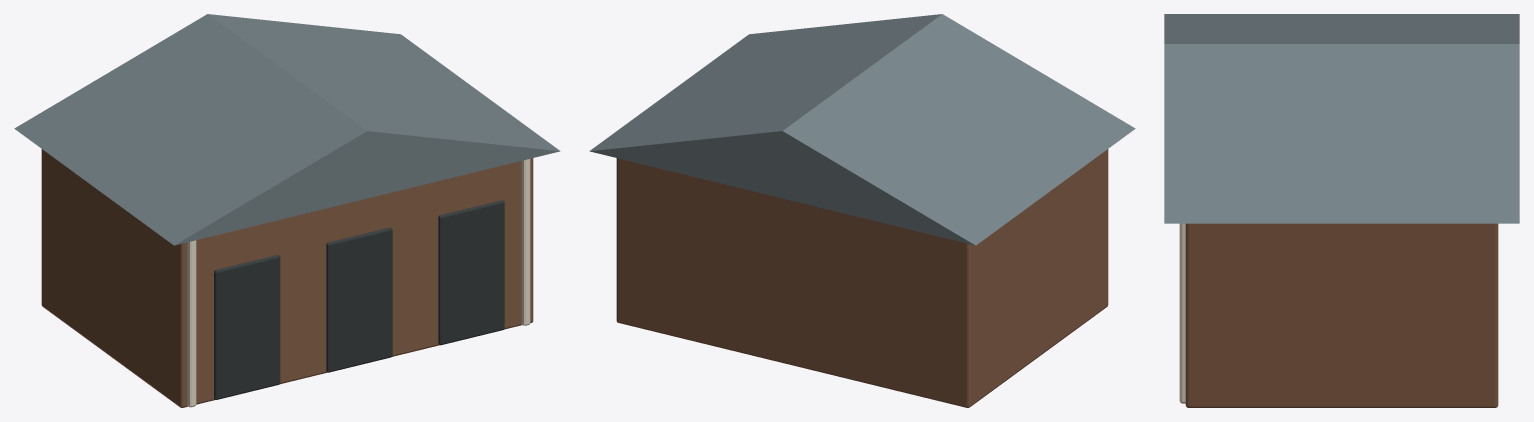
Rendered from warehouse.glb.
The picture shows the model from 3 angles, left to right: view 1: azimuth 30°, elevation 25°; view 2: azimuth 150°, elevation 25°; view 3: azimuth 270°, elevation 25°; orthographic projection. The views are drawn at different scales.
Visible parts, largest first — view 1: warehouse_tile, warehouse_timber, warehouse_black, warehouse_ivory; view 2: warehouse_timber, warehouse_tile; view 3: warehouse_tile, warehouse_timber, warehouse_ivory.
Boxes of the visible parts, <box> form: warehouse_tile: <box>14,14,560,245</box>; warehouse_timber: <box>41,149,533,407</box>; warehouse_black: <box>214,200,504,399</box>; warehouse_ivory: <box>187,159,530,407</box>; warehouse_timber: <box>616,149,1108,407</box>; warehouse_tile: <box>589,14,1135,245</box>; warehouse_tile: <box>1164,14,1519,223</box>; warehouse_timber: <box>1185,223,1498,407</box>; warehouse_ivory: <box>1179,223,1185,403</box>.
Size of the model in its own units: 8.1 by 4.85 by 5.8.
